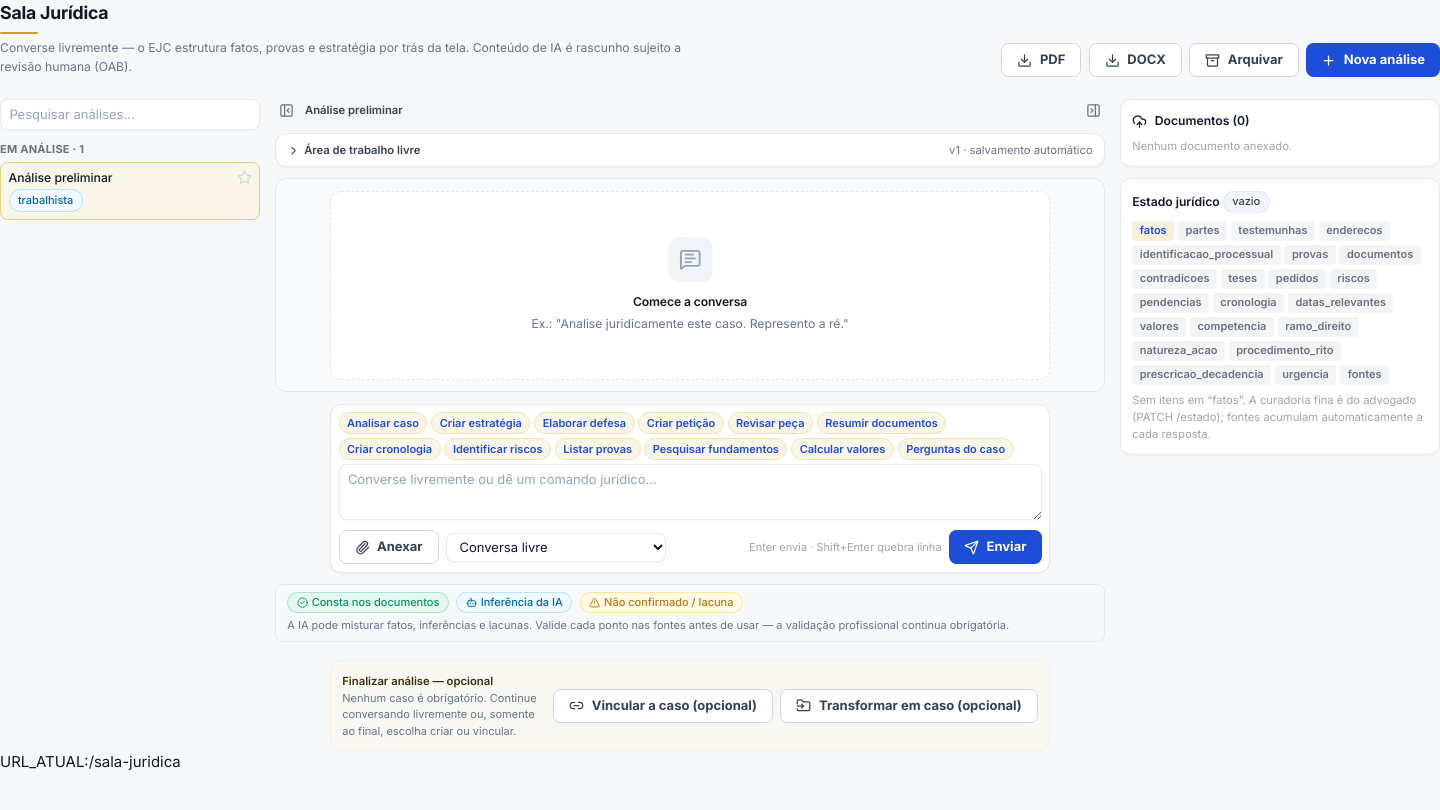
it: Sala Jurídica — wizard pré-preenche área e fatos da sessão › aplica area_sugerida da sessão, não o default civil
The image size is (1440, 810).
Check: the text "Análise preliminar" below "Em análise" is shown, box [8,170,112,185]
Click the button "Transformar em caso (opcional)" at (909, 706), box [780,689,1038,723]
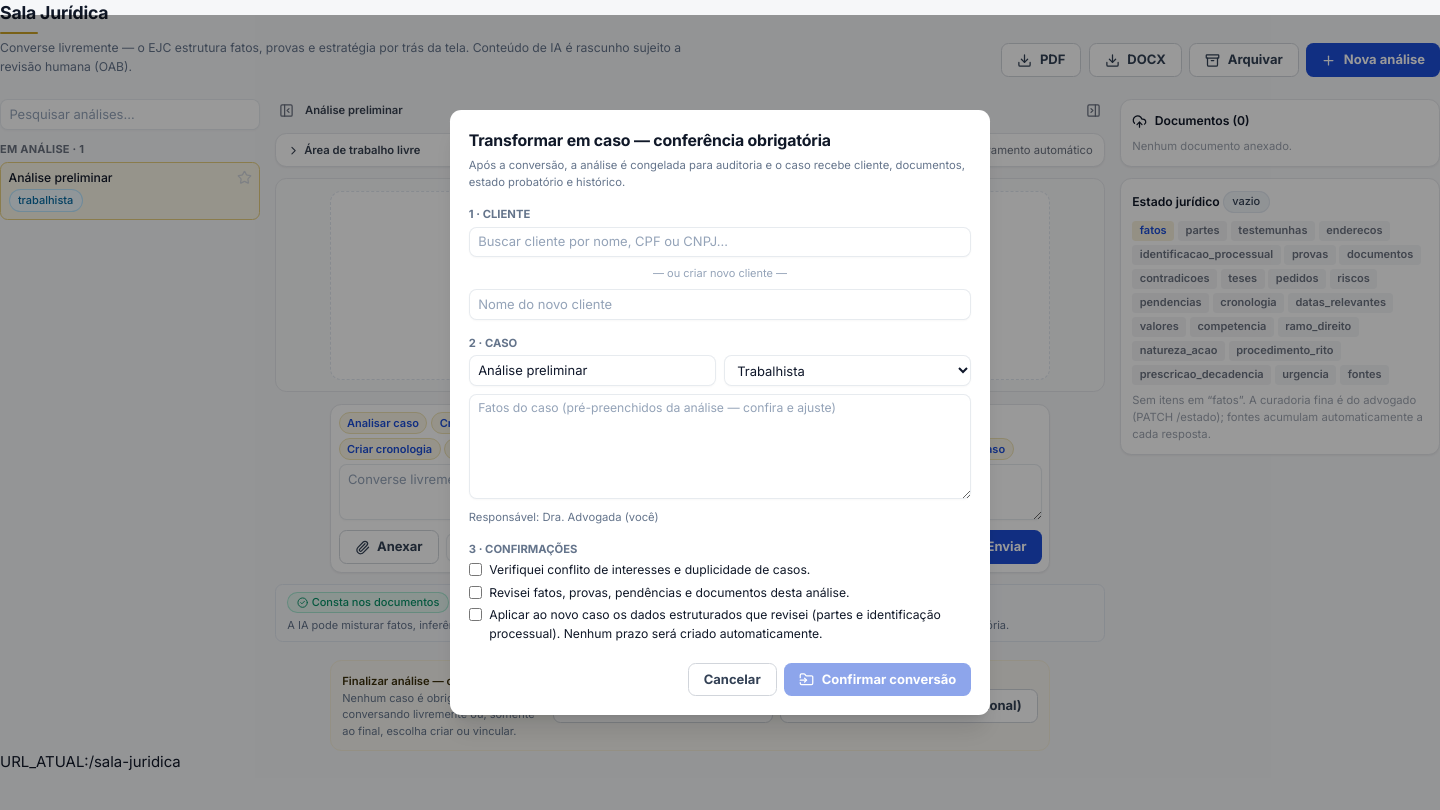
Check: the heading "Transformar em caso — conferência obrigatória" is shown, box [469,131,831,150]
Check: the dropdown showing "Trabalhista" is shown, box [724,355,971,386]
